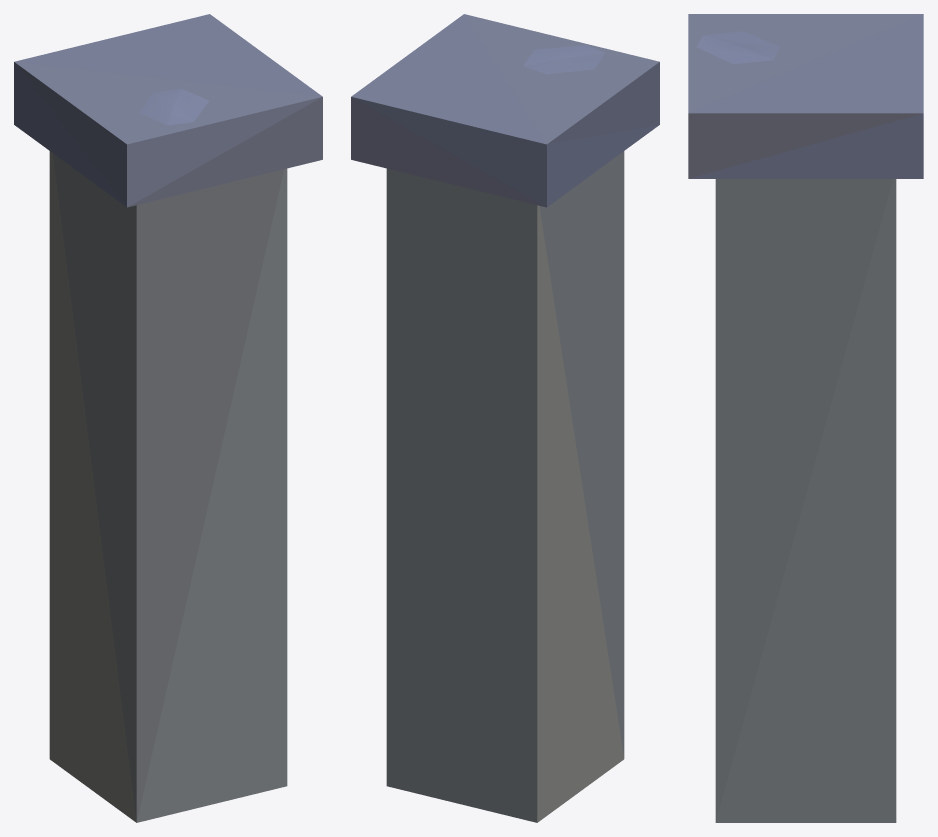
The model's file is HK_Bollard.lod.glb.
3 renders of one model, left to right at view 1: azimuth 30°, elevation 25°; view 2: azimuth 150°, elevation 25°; view 3: azimuth 270°, elevation 25°, orthographic. The views are drawn at different scales.
Parts seen in each view (by area): view 1: HK_Bollard; view 2: HK_Bollard; view 3: HK_Bollard.
Part boxes in pixels (left/top/right/bottom): HK_Bollard: left=14, top=14, right=322, bottom=822; HK_Bollard: left=351, top=14, right=659, bottom=822; HK_Bollard: left=688, top=14, right=923, bottom=822.
Size of the model in its own units: 0.26 by 0.8851 by 0.26.
